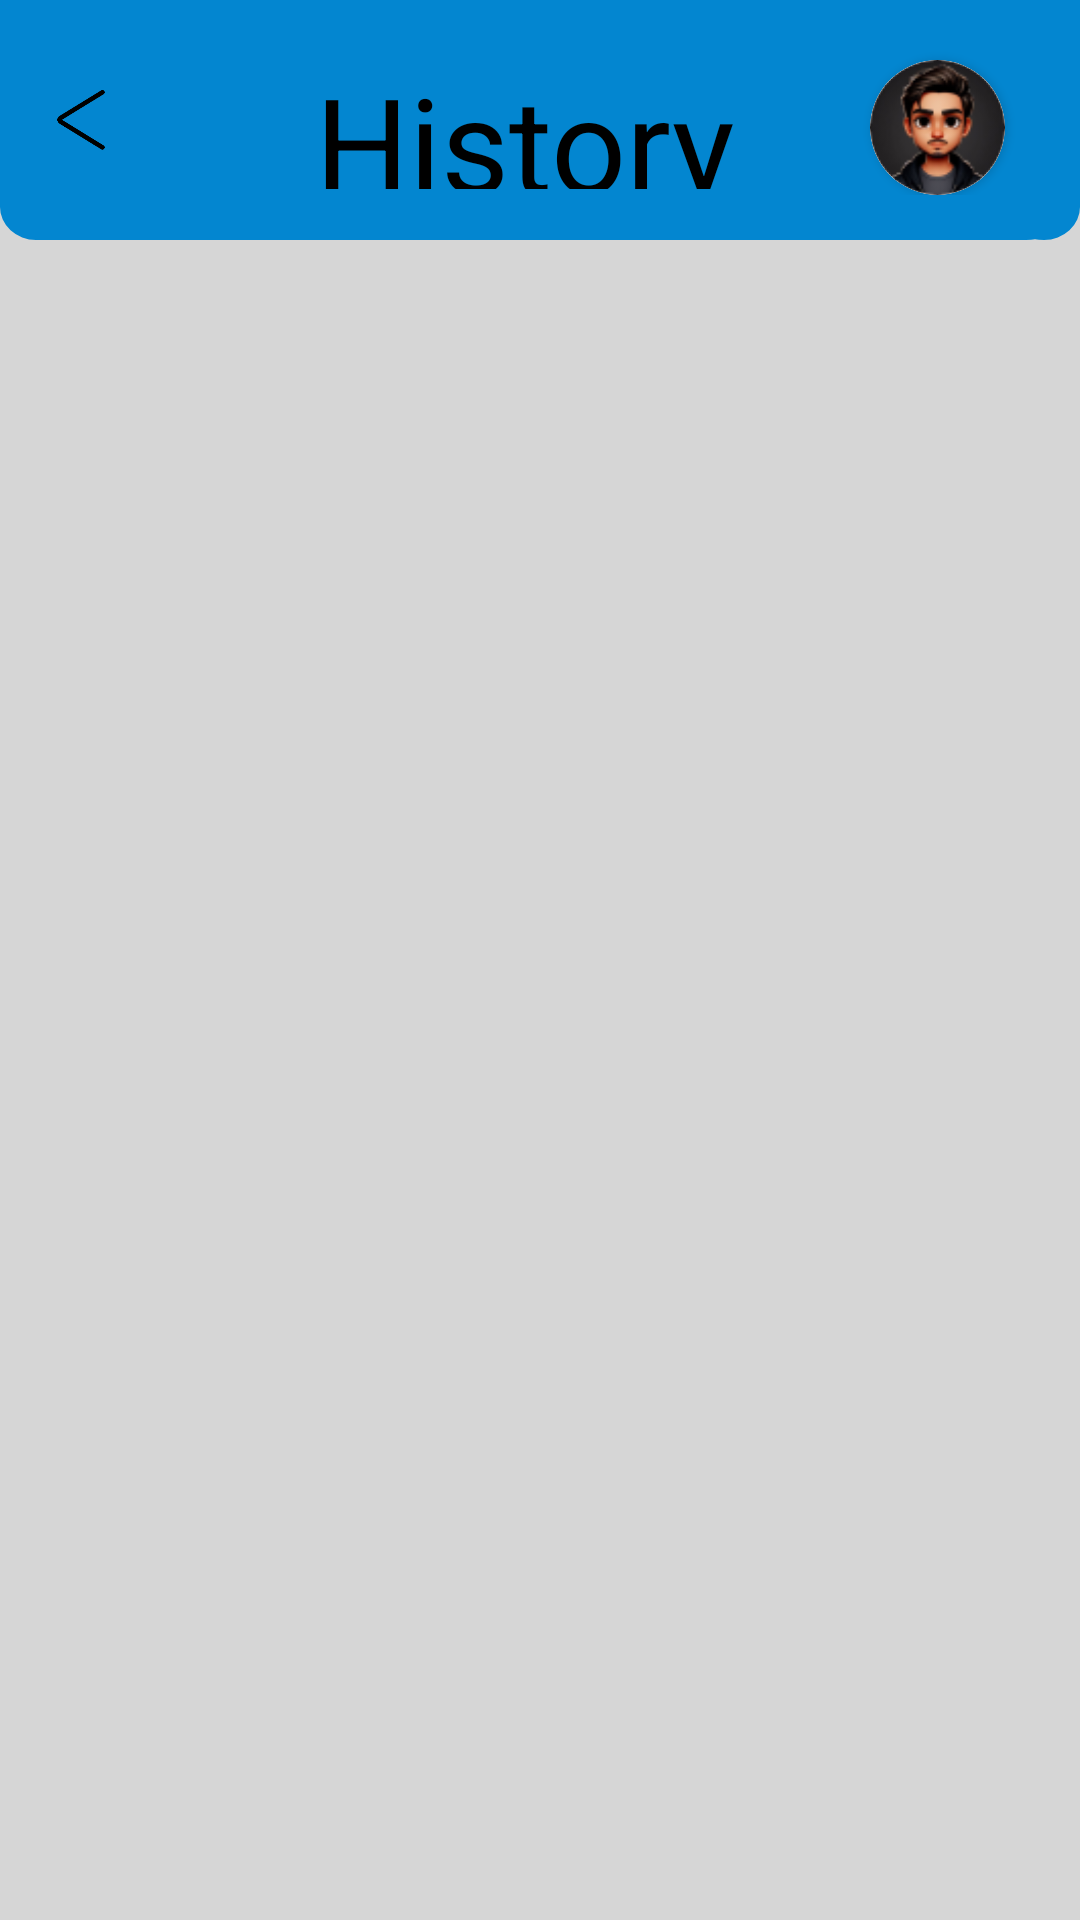

Icon click points for this 1080px x 1920px phone screenshot, format point (x, y):
back arrow: point (81, 120)
